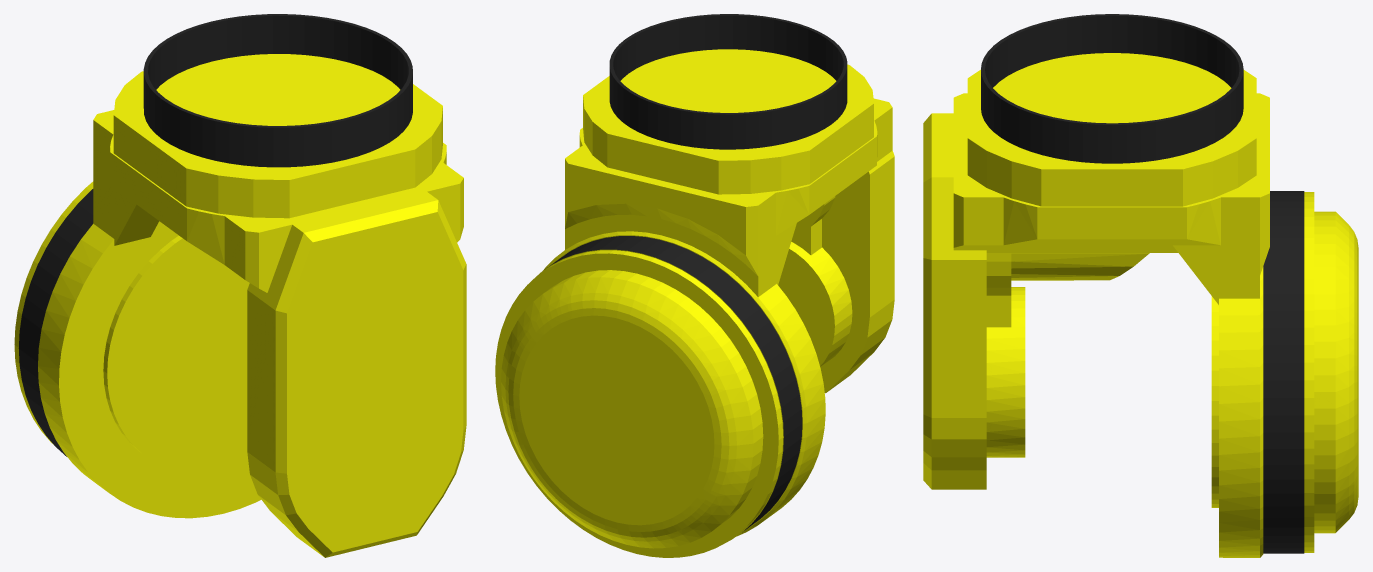
3 views of the same model, side by side, from view 1: azimuth 30°, elevation 25°; view 2: azimuth 150°, elevation 25°; view 3: azimuth 270°, elevation 25° (orthographic). The views are drawn at different scales.
Visible parts, largest first — view 1: node; view 2: node; view 3: node.
Boxes of the visible parts, x1,y1,x2,y2 form: node: (14, 14, 466, 557); node: (495, 14, 894, 557); node: (923, 14, 1358, 557).
Size of the model in its own units: 226 by 316 by 265.
